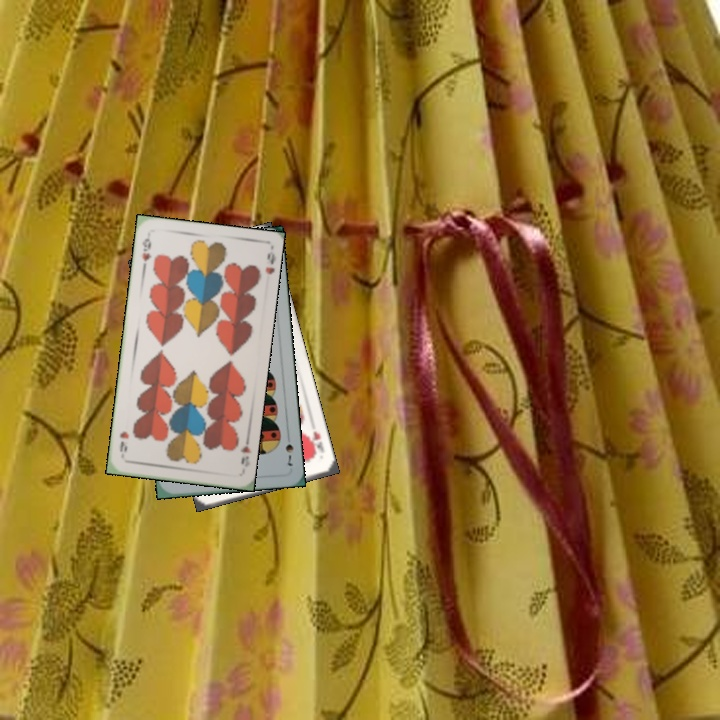H9: (236, 433, 254, 470), (138, 231, 154, 264)
HK: (305, 427, 327, 460)
S7: (281, 440, 296, 468)
